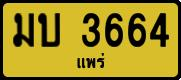letters: (37, 11, 62, 48), (13, 11, 35, 48), (149, 11, 171, 48), (126, 12, 148, 48), (103, 11, 124, 48), (80, 12, 101, 48)
province: (75, 51, 106, 70)
